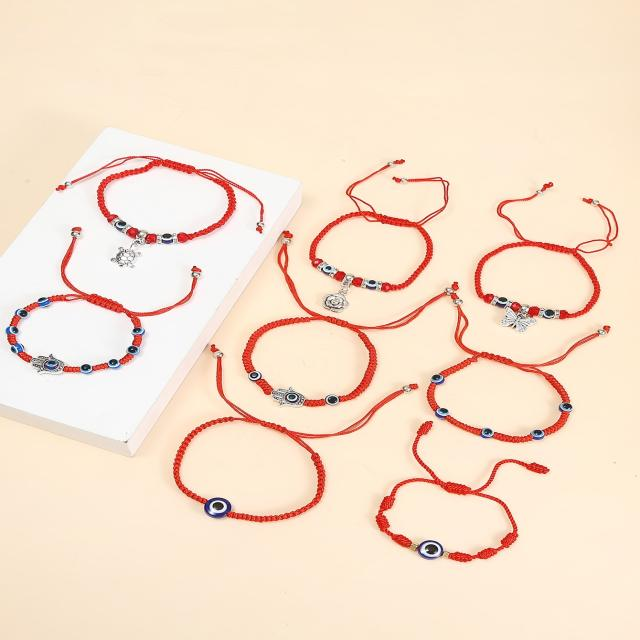bracelet: (172, 341, 406, 525), (16, 202, 213, 402), (297, 116, 475, 315), (421, 296, 628, 464), (387, 402, 575, 584), (451, 150, 640, 326), (78, 126, 294, 266), (239, 270, 424, 416)
